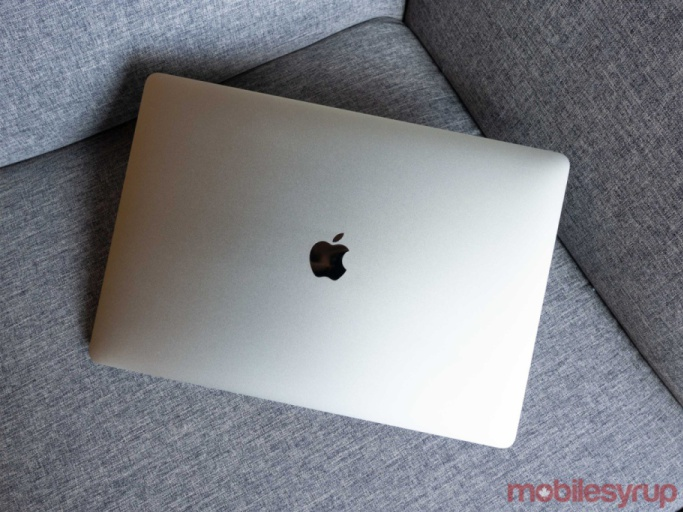apple: (299, 221, 373, 290)
